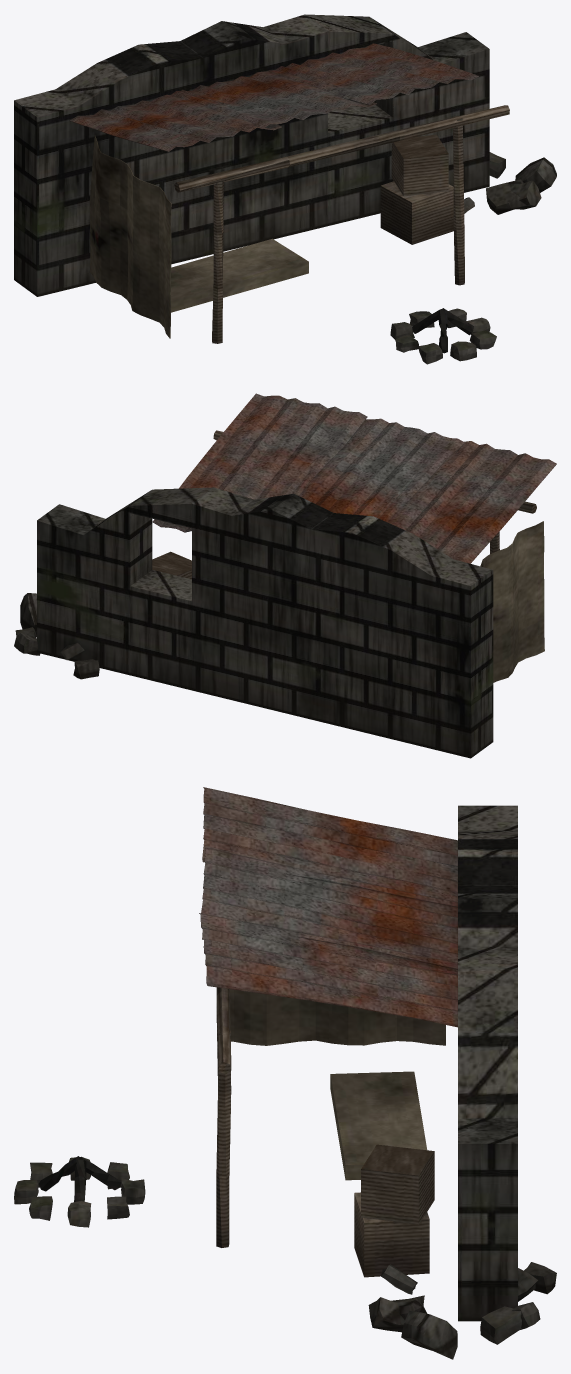
File: shack_b.glb
3 renders of one model, top to bottom at view 1: azimuth 30°, elevation 25°; view 2: azimuth 150°, elevation 25°; view 3: azimuth 270°, elevation 25°, orthographic. The views are drawn at different scales.
Parts seen in each view (by area): view 1: shack_b; view 2: shack_b; view 3: shack_b.
Boxes of the visible parts, bbox=[...] form: shack_b: bbox=[14, 14, 556, 364]; shack_b: bbox=[14, 393, 556, 758]; shack_b: bbox=[14, 787, 556, 1359].
Bounding box in the file's own units: 6.27 × 2.66 × 4.52.
1 material, 1 textured.
